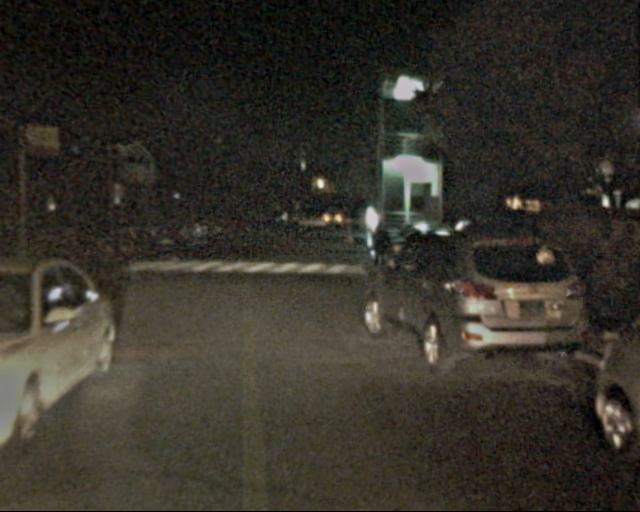person: (369, 220, 393, 279), (116, 216, 140, 274), (166, 215, 182, 263)
